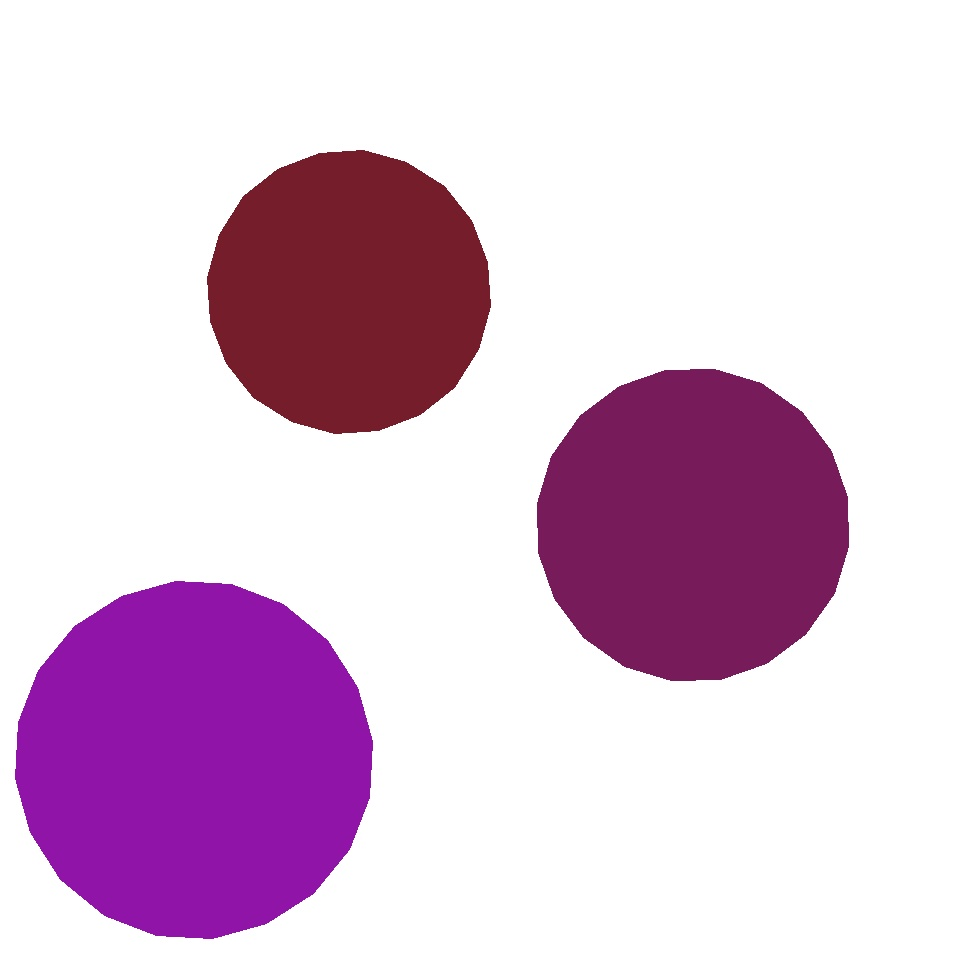circle: (569, 504, 771, 696)
square: (488, 309, 840, 662), (134, 255, 457, 578)
triangle: (15, 582, 373, 938), (538, 370, 848, 680), (207, 150, 491, 434)
